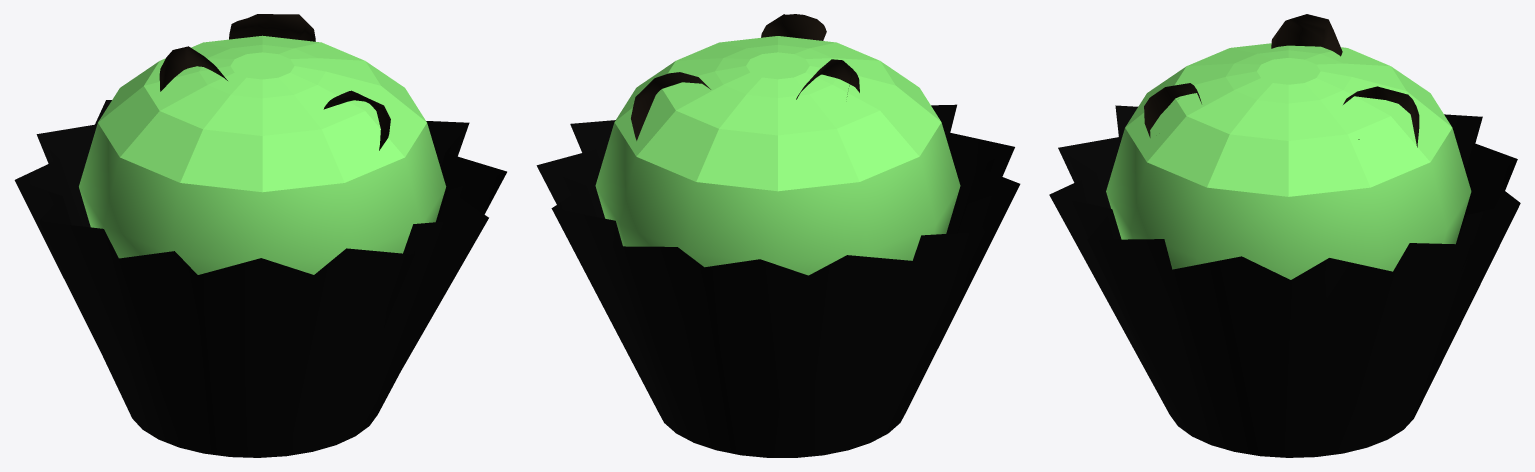
Rendered from Muffin_4.fbx.
3 views of the same model, side by side, from view 1: azimuth 30°, elevation 25°; view 2: azimuth 150°, elevation 25°; view 3: azimuth 270°, elevation 25° (orthographic).
Visible parts, largest first — view 1: Cylinder030; view 2: Cylinder030; view 3: Cylinder030.
Boxes of the visible parts, <box> form: Cylinder030: <box>14,14,506,457</box>; Cylinder030: <box>536,14,1020,457</box>; Cylinder030: <box>1049,14,1520,457</box>.
Bounding box in the file's own units: 18.46 × 15.12 × 17.88.
